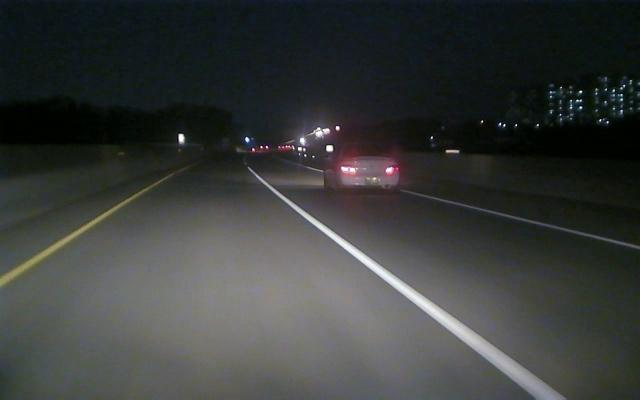lane: (250, 169, 566, 398), (414, 191, 640, 250), (2, 195, 135, 286)
